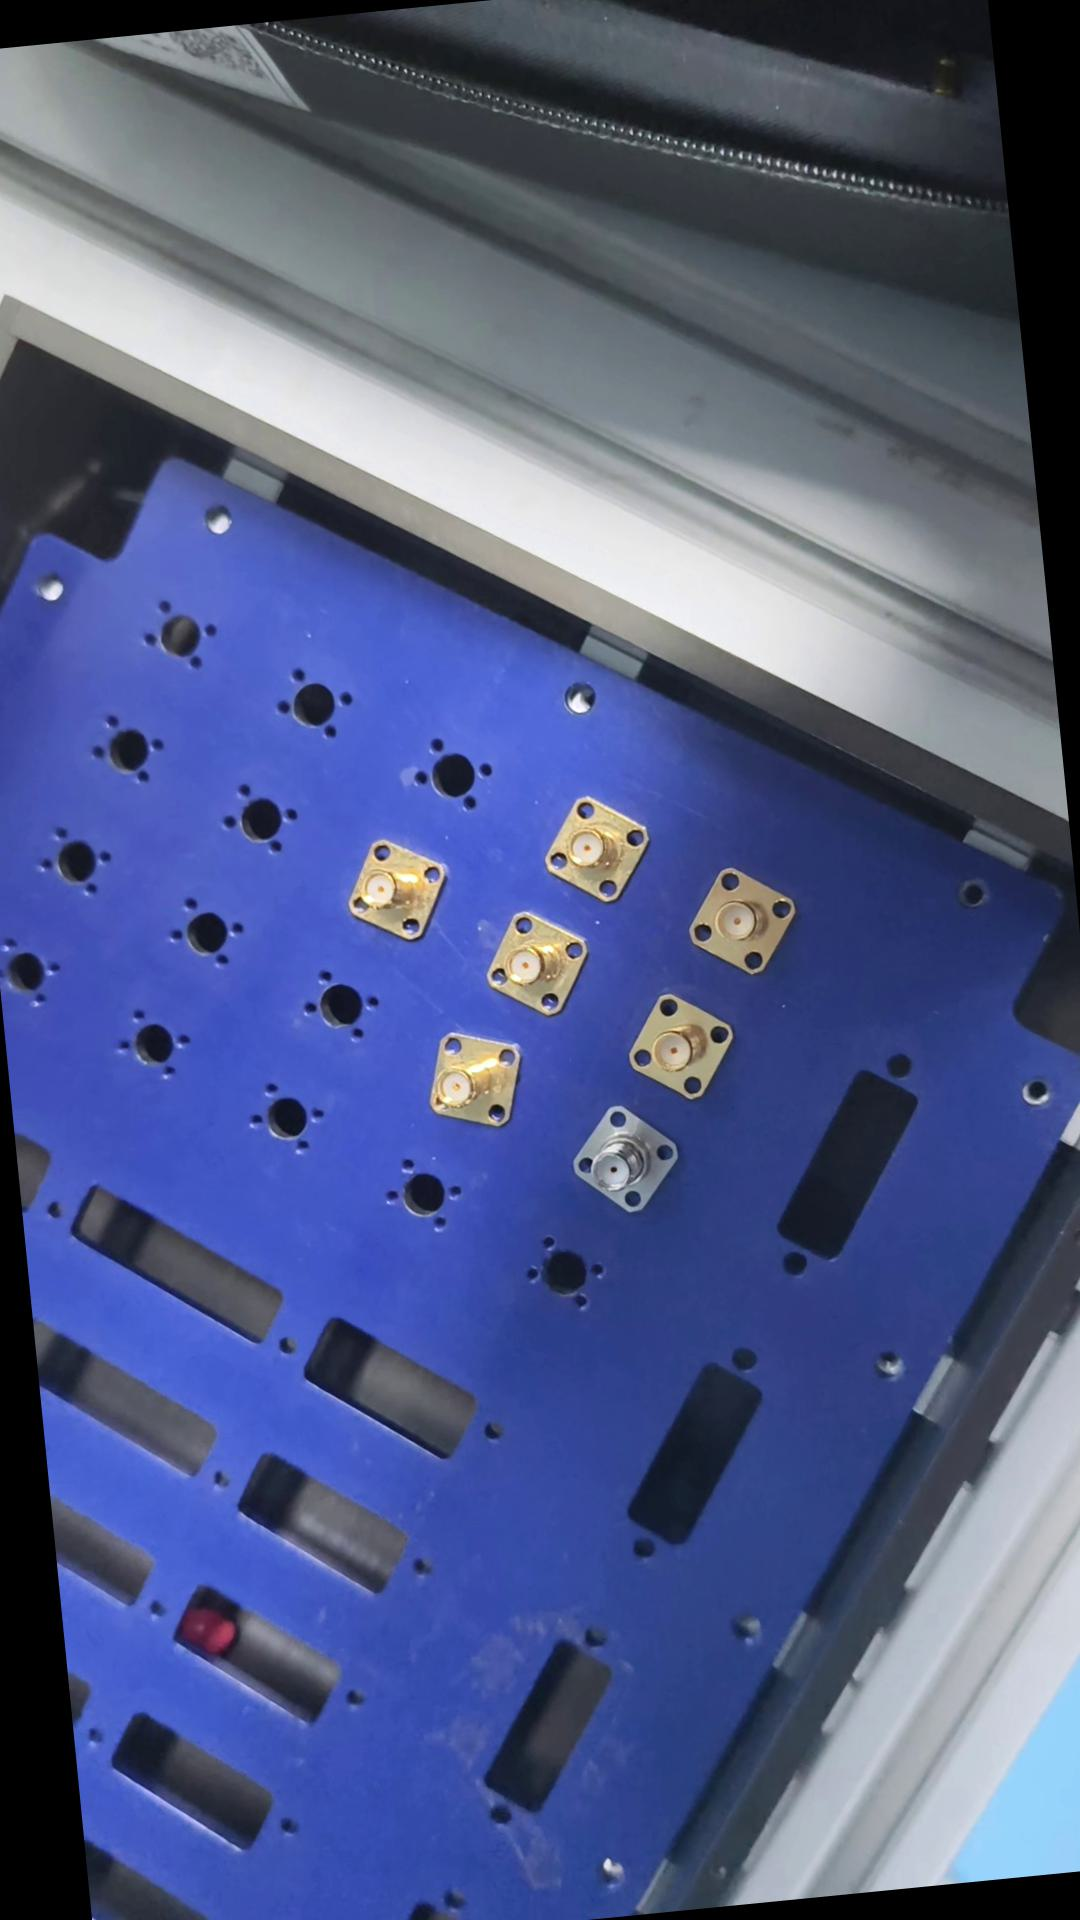SMA: (560, 1091, 684, 1224), (615, 981, 741, 1104), (534, 781, 651, 907), (683, 860, 800, 977), (404, 1030, 529, 1137), (477, 905, 592, 1021), (339, 827, 447, 940)
